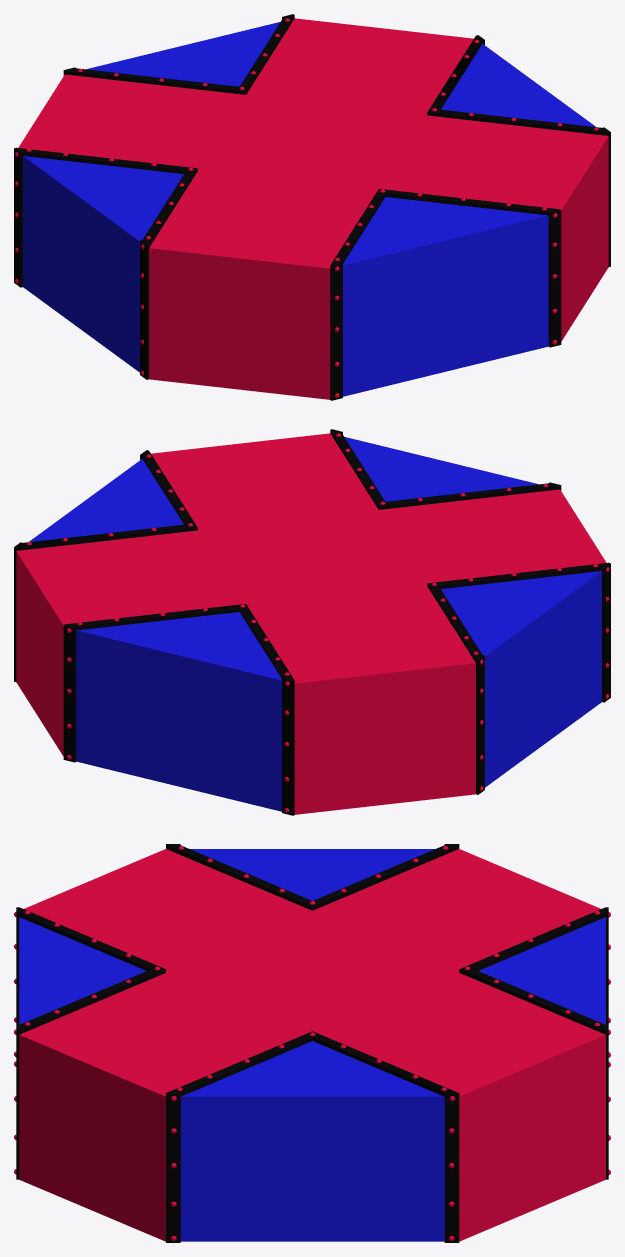
The model's file is TowerBase_1.fbx.
The picture shows the model from 3 angles, top to bottom: view 1: azimuth 30°, elevation 25°; view 2: azimuth 150°, elevation 25°; view 3: azimuth 270°, elevation 25°; orthographic projection. The views are drawn at different scales.
Parts seen in each view (by area): view 1: Cube.003, Cube.002, Cube.001; view 2: Cube.003, Cube.002, Cube.001; view 3: Cube.003, Cube.002, Cube.001.
Part boxes in pixels (<box>): Cube.003: <box>18,18,608,399</box>; Cube.002: <box>23,22,596,396</box>; Cube.001: <box>14,14,610,400</box>; Cube.003: <box>16,433,606,814</box>; Cube.002: <box>29,437,601,811</box>; Cube.001: <box>14,429,610,815</box>; Cube.003: <box>19,849,605,1241</box>; Cube.002: <box>19,849,605,1241</box>; Cube.001: <box>16,844,608,1242</box>.
Bounding box in the file's own units: 1982 × 553 × 1982.
